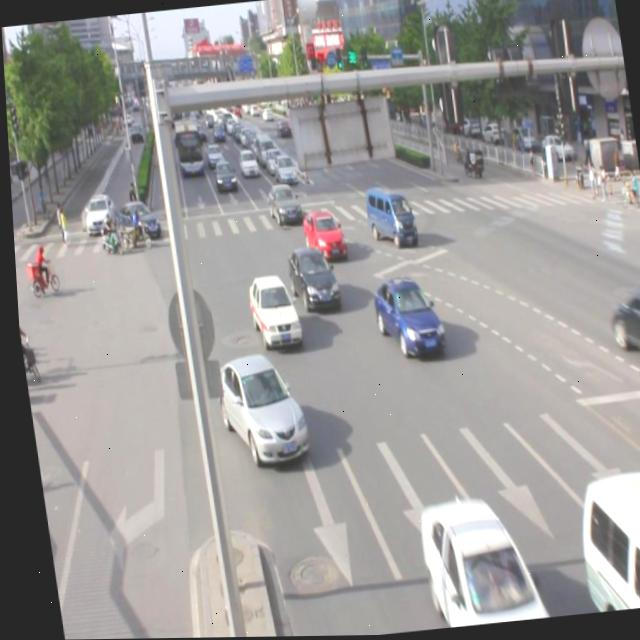car: (409, 489, 540, 630), (209, 346, 305, 467), (366, 270, 441, 356), (241, 270, 299, 346), (280, 242, 339, 312), (601, 282, 640, 373), (298, 206, 343, 262)
truck: (564, 466, 640, 614), (359, 181, 415, 247)
